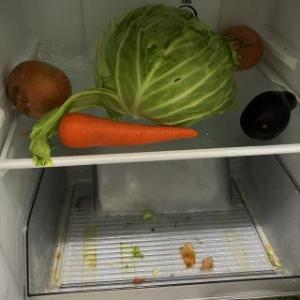cabbage: (94, 4, 244, 125)
carrot: (57, 111, 201, 149)
eggplant: (240, 90, 298, 142)
onion: (5, 59, 73, 121), (218, 25, 266, 73)
